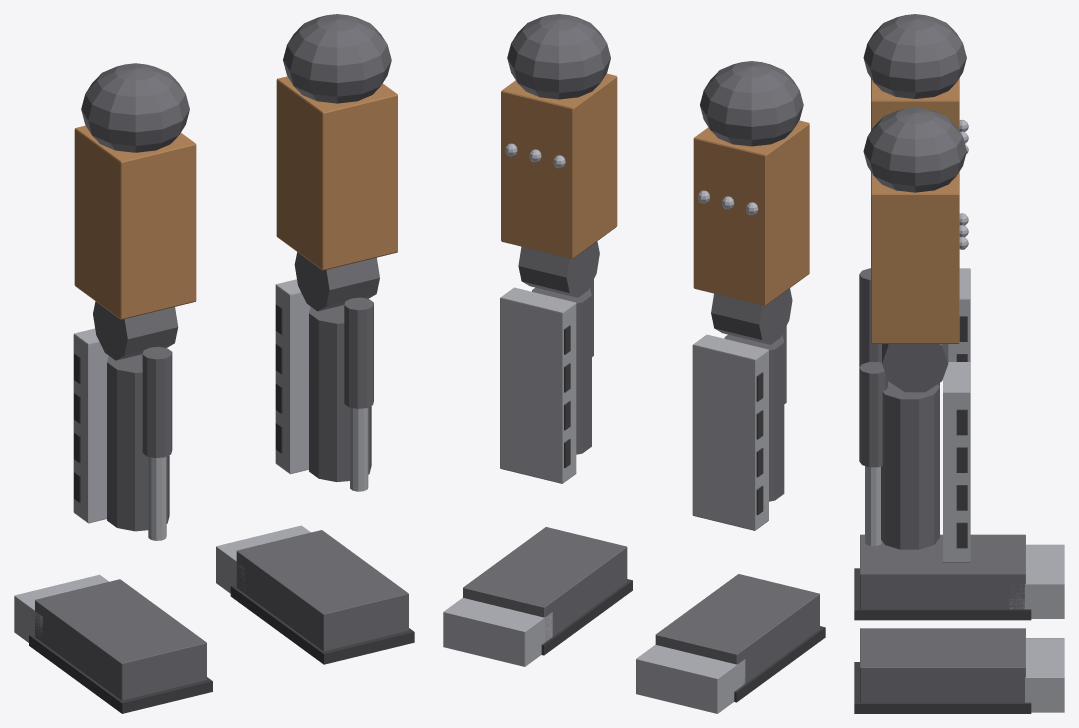
The model's file is derby-stomp.glb.
The picture shows the model from 3 angles, left to right: view 1: azimuth 30°, elevation 25°; view 2: azimuth 150°, elevation 25°; view 3: azimuth 270°, elevation 25°; orthographic projection. The views are drawn at different scales.
Visible parts, largest first — view 1: thigh_r, thigh_l, foot_l, foot_r, hip_r, hip_l, shin_r, shin_l, shinguard_r, shinguard_l, sleeve_r, knee_l (+8 smaller); view 2: thigh_r, thigh_l, shinguard_r, shinguard_l, foot_l, foot_r, hip_l, hip_r, toe_l, toe_r, knee_l, knee_r (+4 smaller); view 3: thigh_l, foot_l, foot_r, shin_l, hip_l, hip_r, shinguard_l, toe_r, toe_l, knee_l, sleeve_l, sole_r (+5 smaller).
Boxes of the visible parts, x1,y1,x2,y2 form: thigh_r: (74,125,196,319); thigh_l: (276,76,397,270); foot_l: (236,530,408,651); foot_r: (35,579,206,700); hip_r: (81,63,189,152); hip_l: (283,14,391,103); shin_r: (107,354,169,531); shin_l: (309,305,371,481); shinguard_r: (73,328,108,523); shinguard_l: (275,279,310,474); sleeve_r: (142,346,172,457); knee_l: (294,252,379,311); thigh_r: (693,120,809,305); thigh_l: (501,73,617,258); shinguard_r: (692,334,768,530); shinguard_l: (500,287,576,483); foot_l: (463,527,627,640); foot_r: (655,574,819,684); hip_l: (507,14,610,99); hip_r: (700,61,803,146); toe_l: (443,598,552,666); toe_r: (636,645,745,713); knee_l: (518,241,599,297); knee_r: (711,288,792,344); thigh_l: (871,172,959,343); foot_l: (860,628,1025,702); foot_r: (860,534,1025,609); shin_l: (881,381,939,549); hip_l: (863,107,966,192); hip_r: (863,14,966,98); shinguard_l: (943,362,970,562); toe_r: (1009,544,1064,618); toe_l: (1025,638,1064,712); knee_l: (882,344,948,392); sleeve_l: (859,362,887,467); sole_r: (854,568,1031,620).
Bounding box in the file's own units: 0.587 × 1.16 × 0.38.
